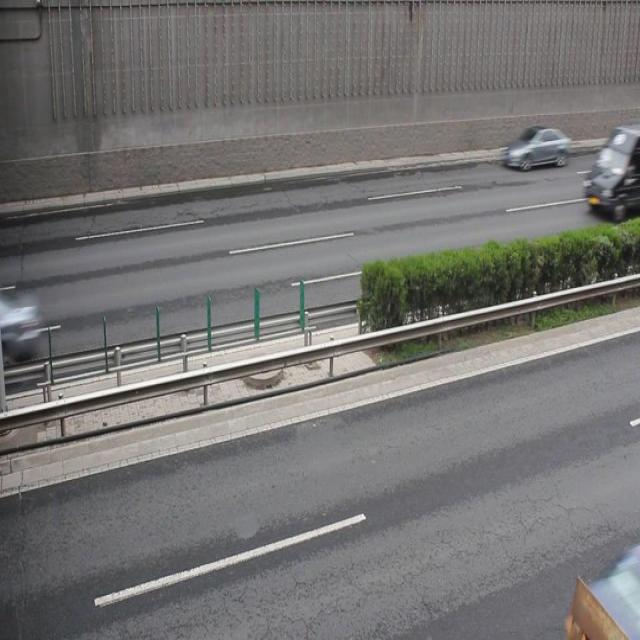car: (502, 122, 570, 166)
truck: (582, 125, 640, 218)
